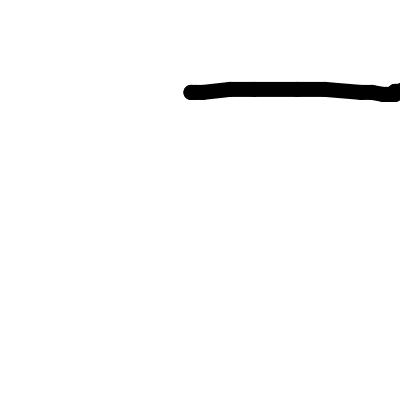minus: (183, 76, 400, 108)
